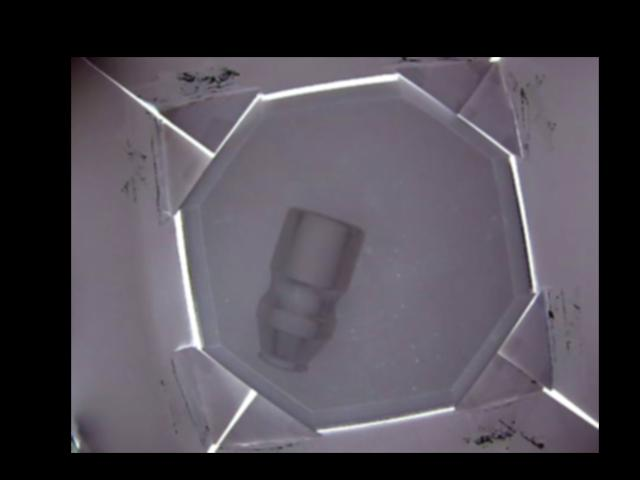Bottle: (257, 204, 364, 369)
